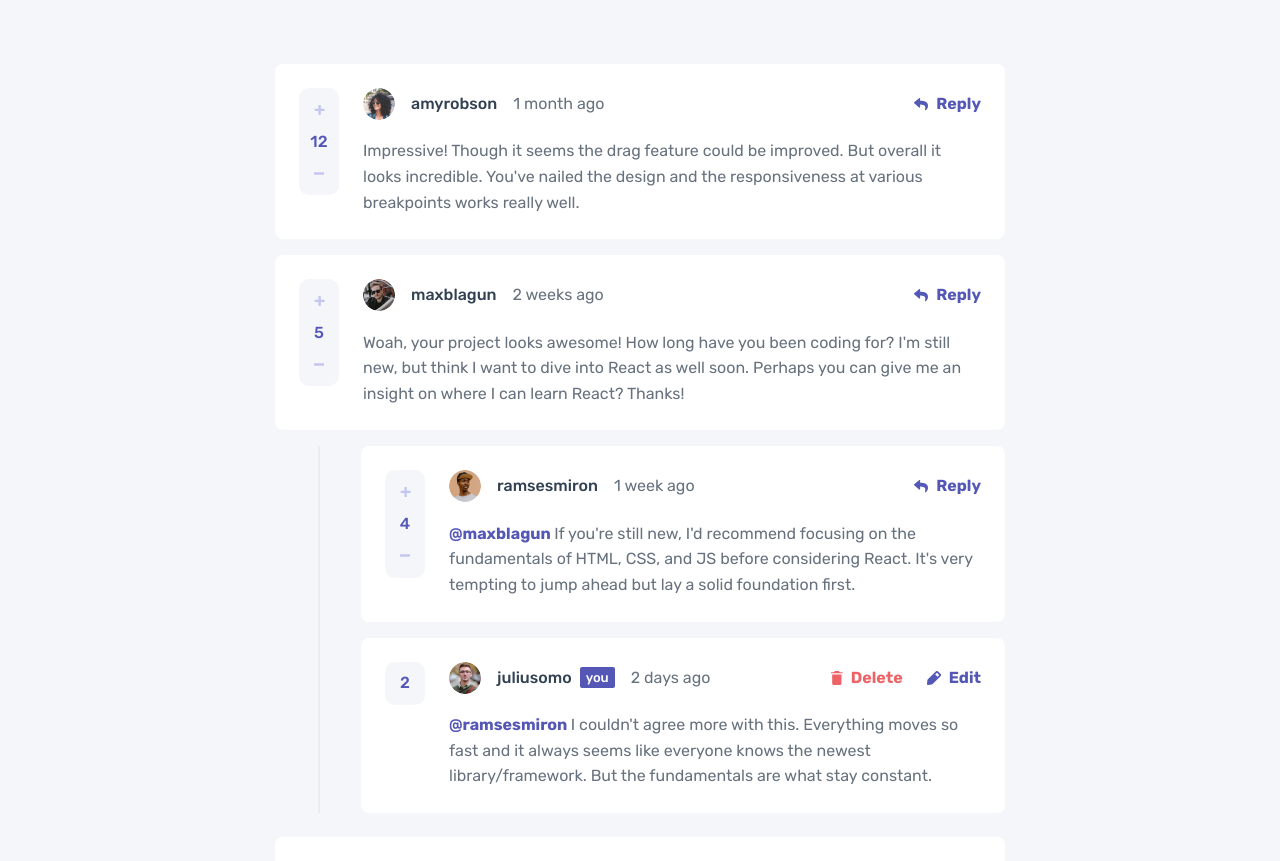
App › closes the delete confirmation modal when pressing the Escape key
The image size is (1280, 861).
Click the button "Delete": (867, 678) [831,662,903,694]
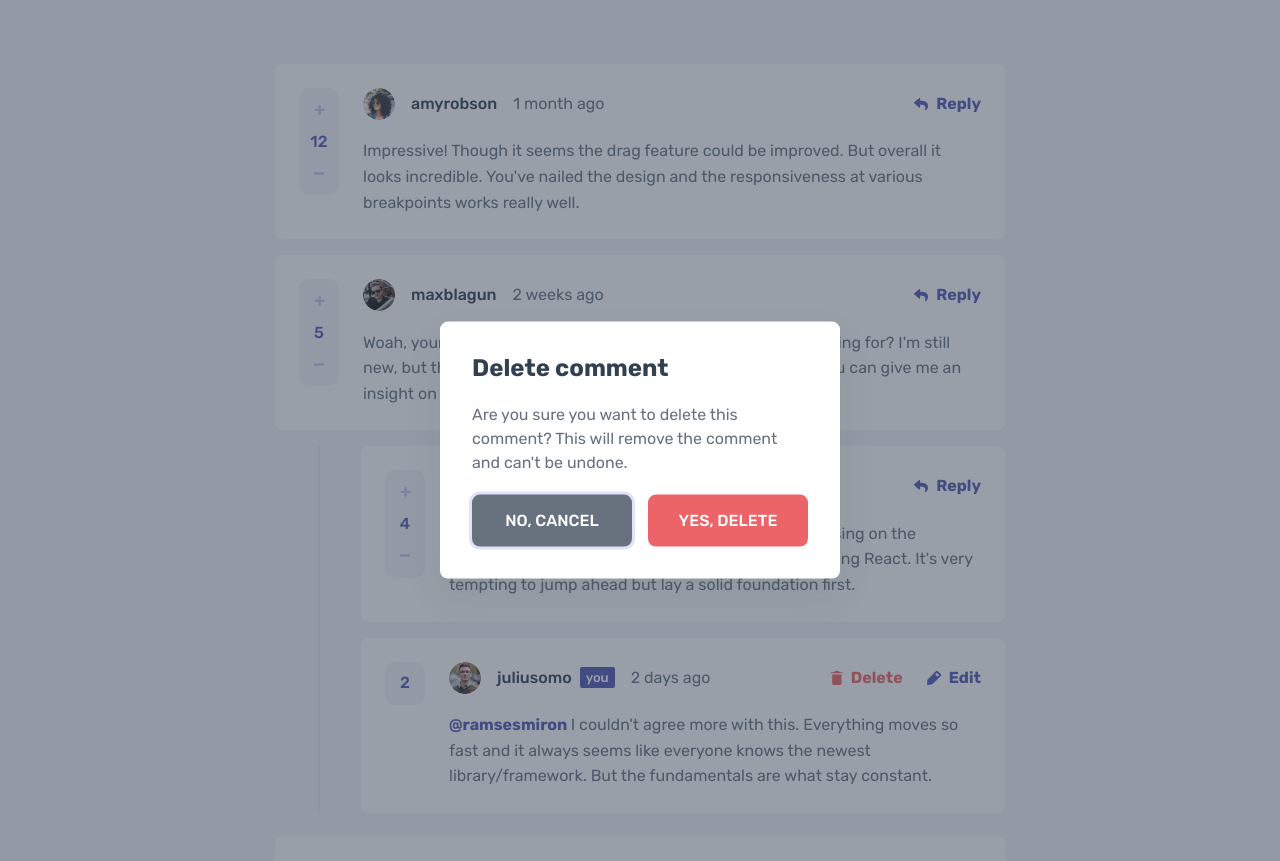
Press Escape
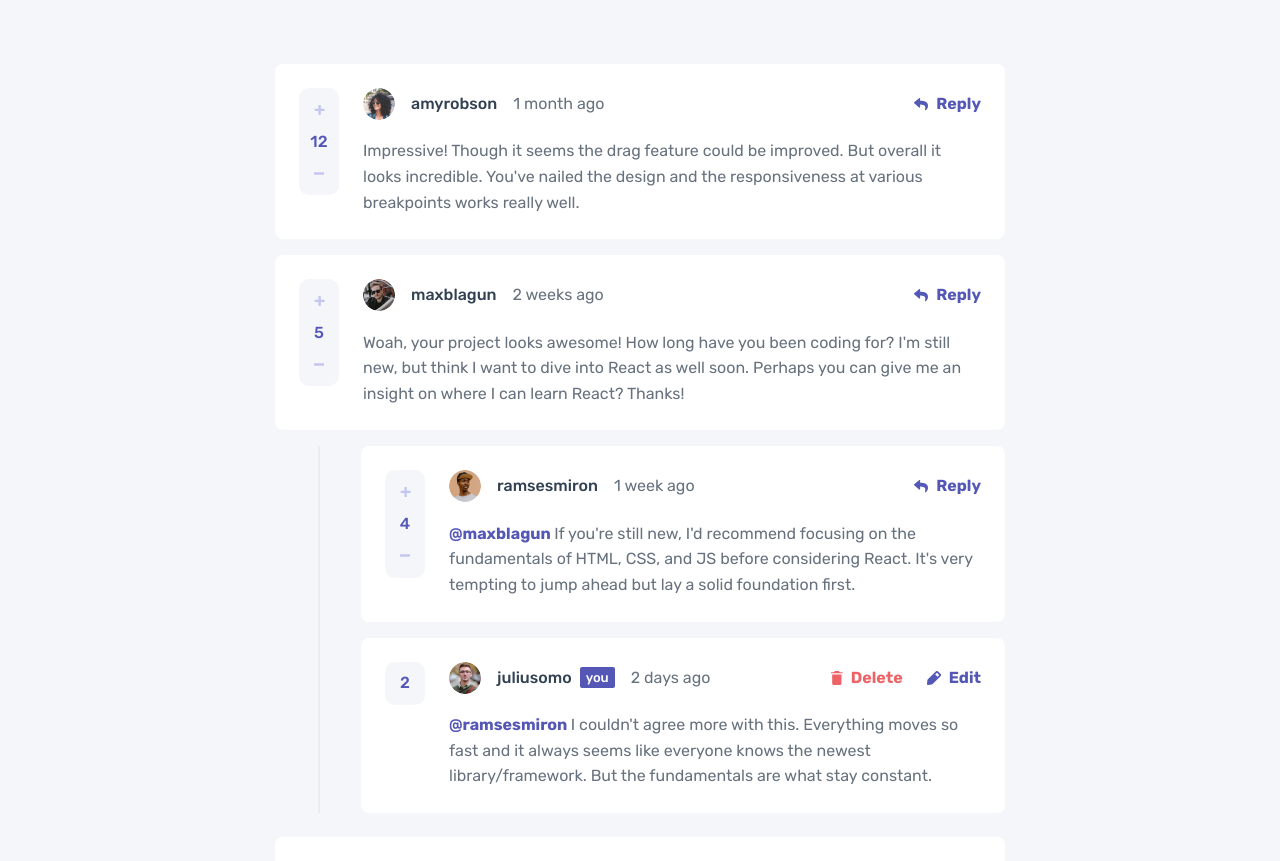
Now the button "Yes, delete" is gone
